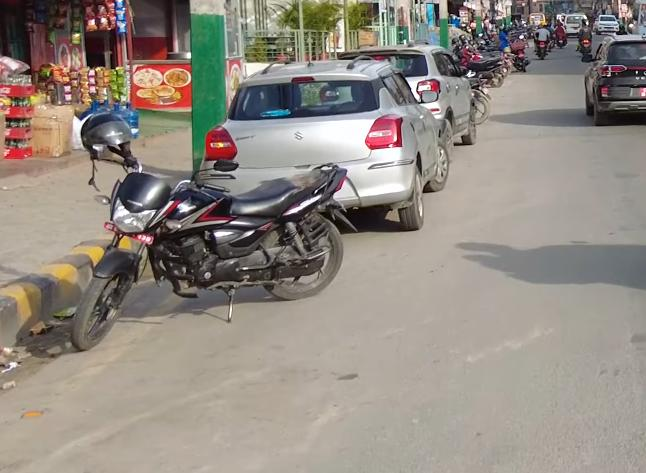bike: (67, 135, 361, 349)
